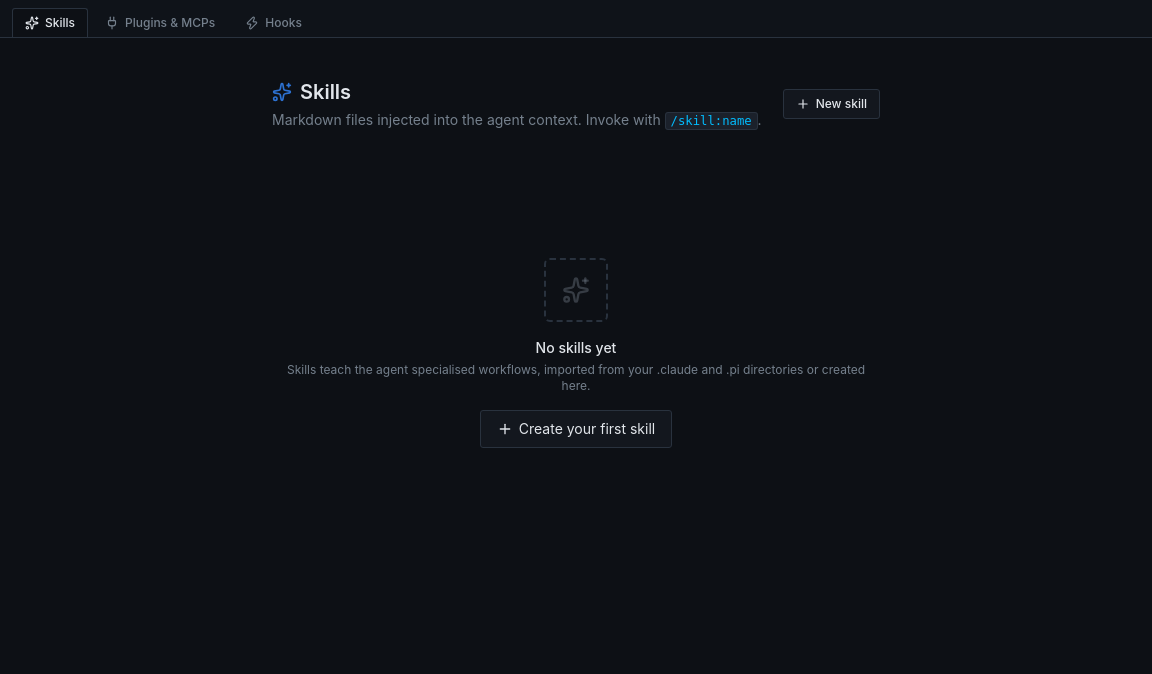
Test: ExtensionsPanel › switches to Plugins & MCPs content when that sub-tab is clicked
The image size is (1152, 674).
Step 1. Click the tab "Plugins & MCPs" → [160, 22], box left=92, top=8, right=228, bottom=37
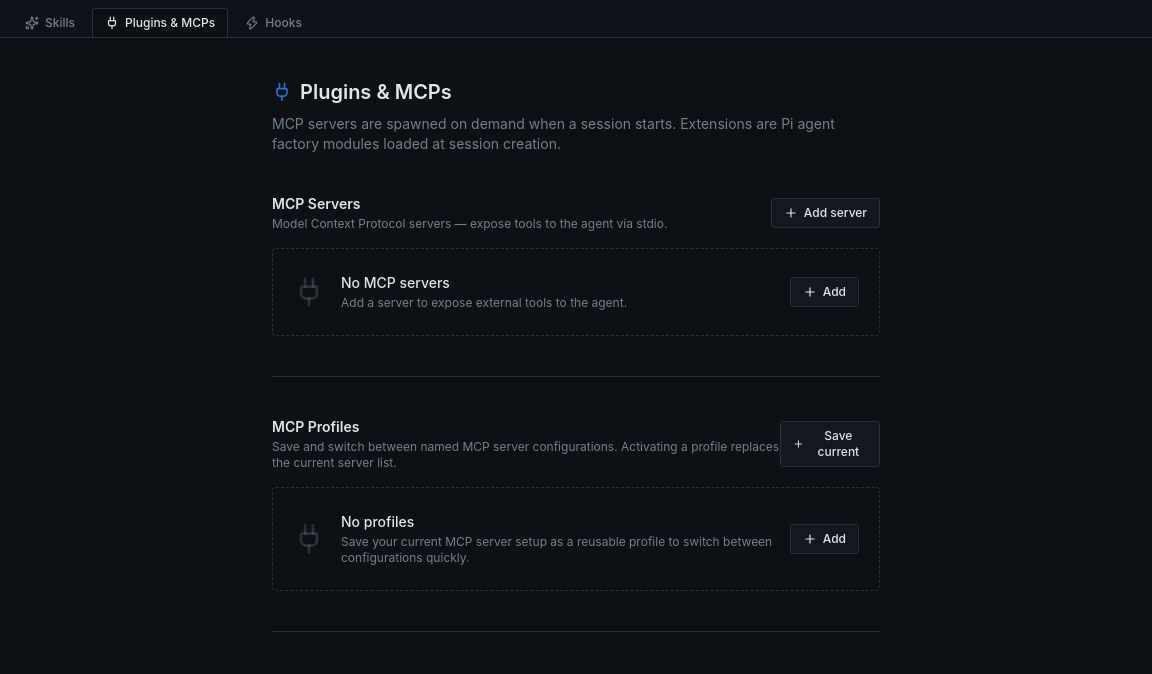
Now the heading "Plugins & MCPs" is shown, box left=300, top=78, right=452, bottom=106
